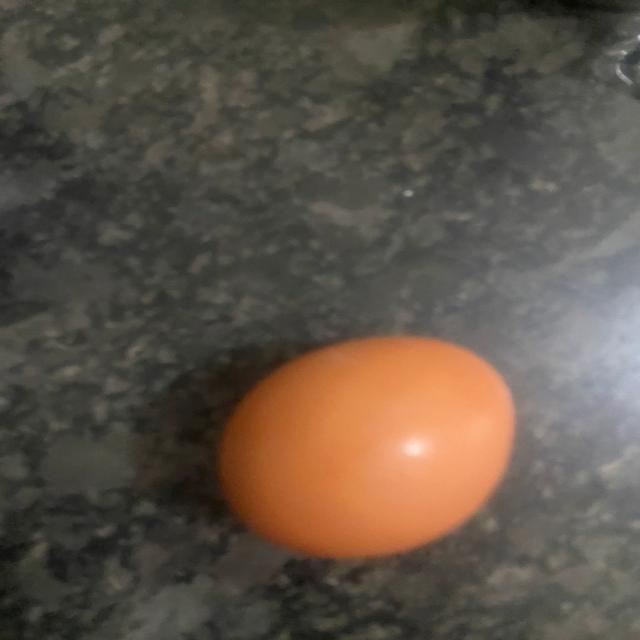Egg: (204, 324, 521, 569)
